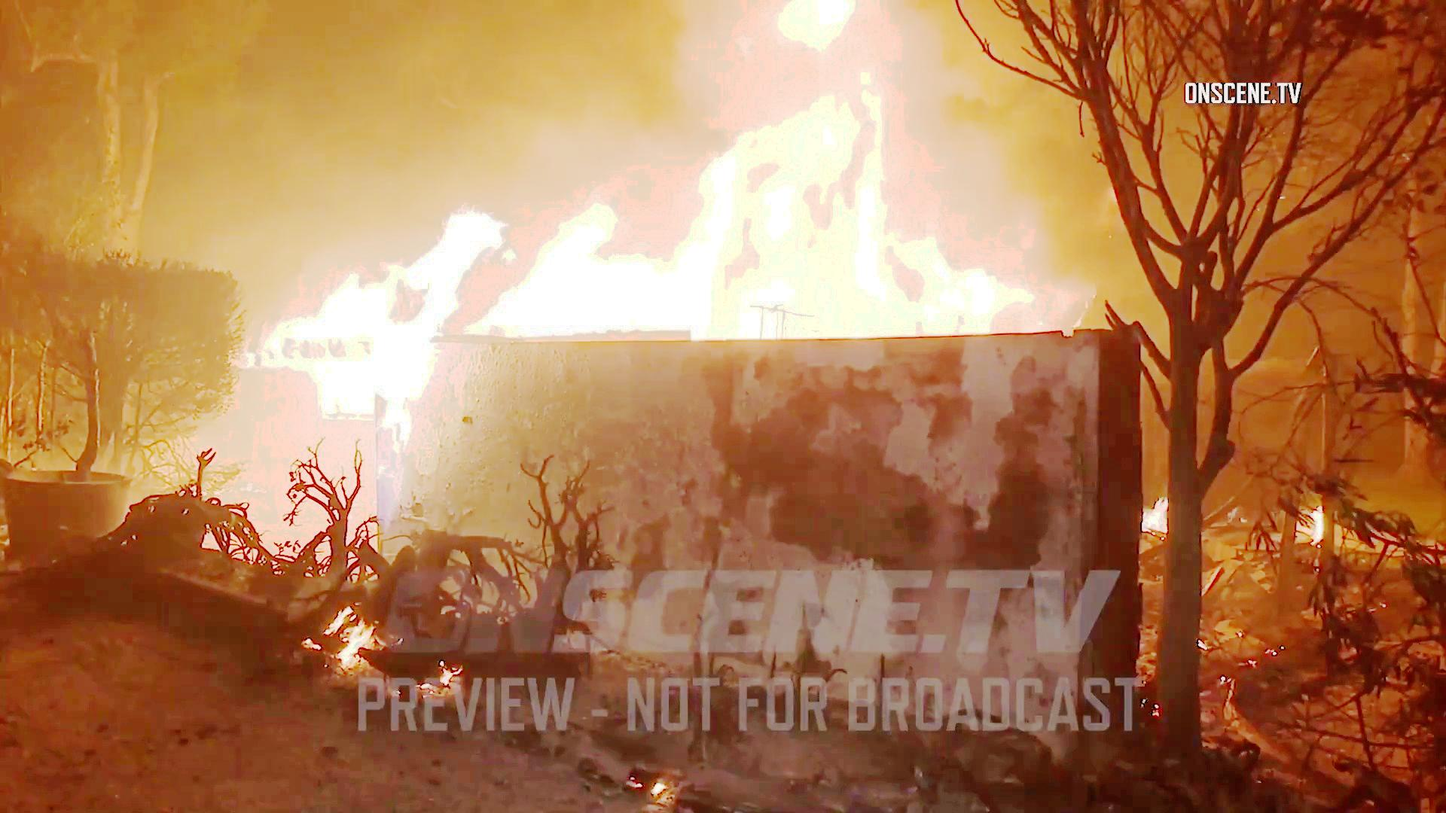fire: (485, 0, 1060, 327)
